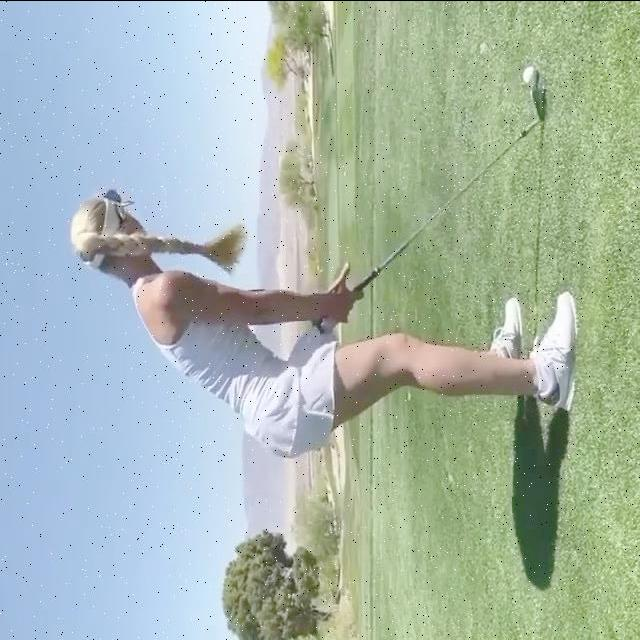golf ball: (523, 66, 536, 85)
golf club-handle: (316, 87, 547, 333)
golf club-head: (532, 88, 547, 122)
